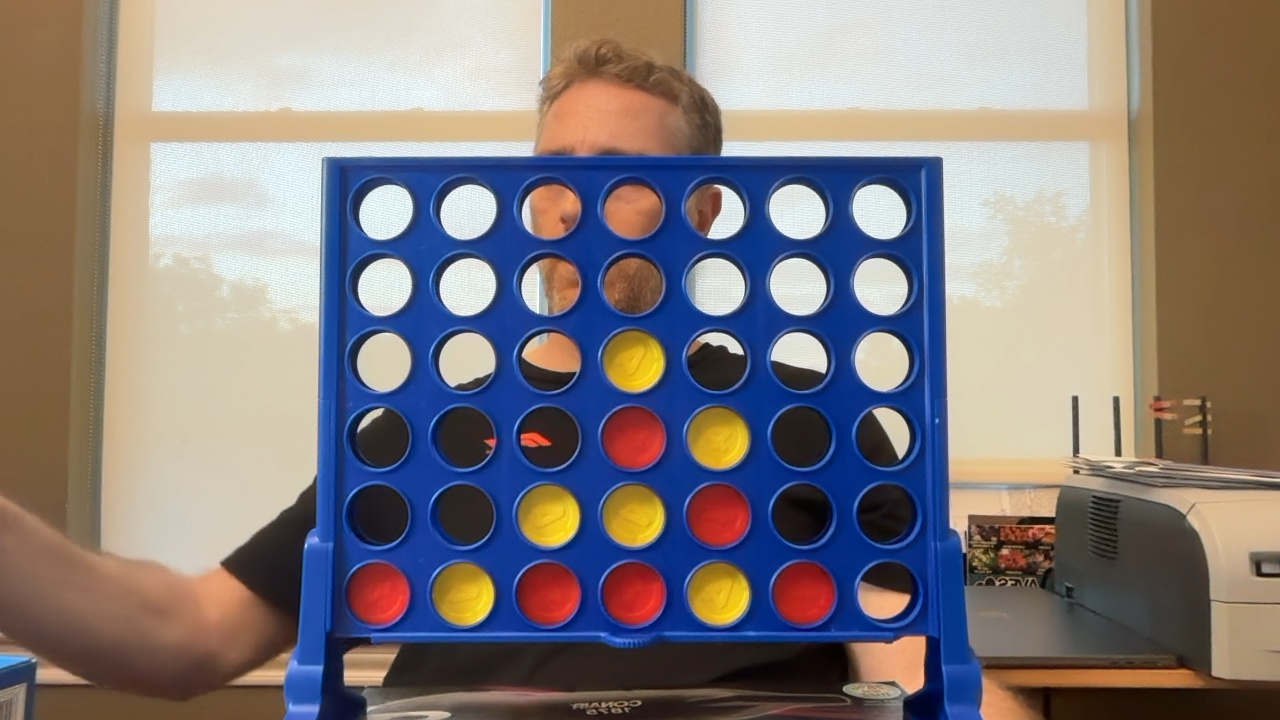red piece: (516, 561, 581, 626), (602, 561, 666, 626), (686, 483, 750, 548), (772, 561, 835, 627), (601, 406, 665, 469), (346, 561, 409, 625)
yellow piece: (687, 561, 750, 626), (431, 562, 494, 627), (602, 483, 665, 547), (517, 484, 580, 548), (686, 406, 749, 469), (602, 330, 665, 392)
